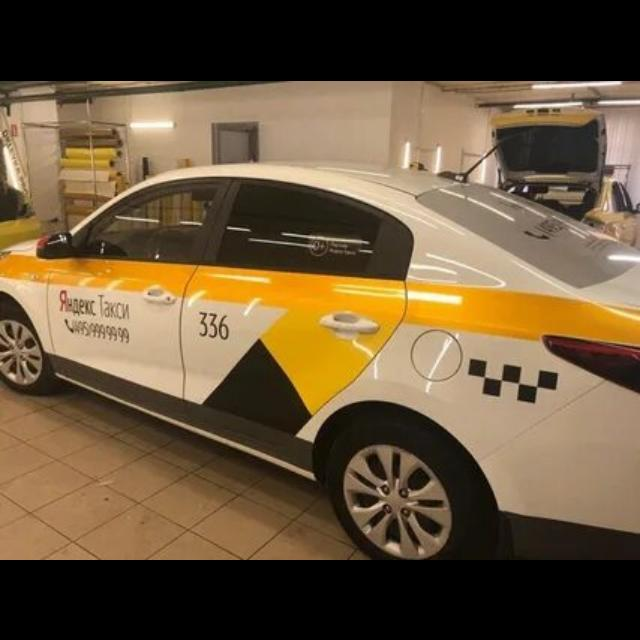taxi: (1, 158, 639, 559)
